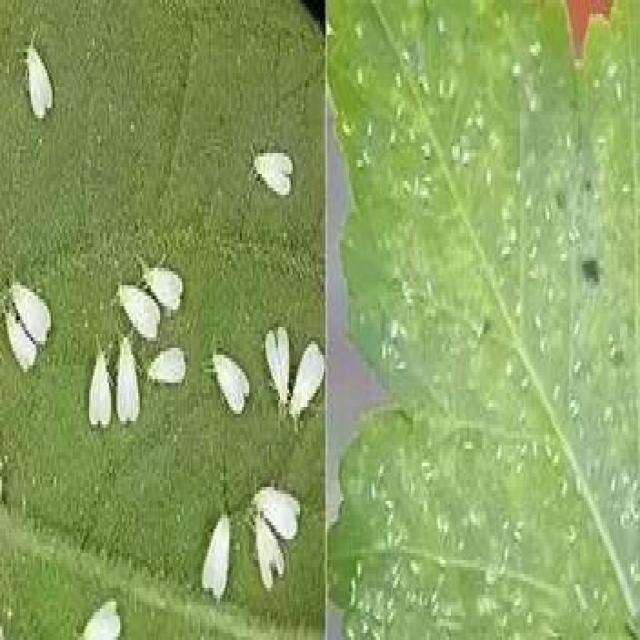BeetArmyWorm-Adult-: (200, 342, 260, 430), (196, 496, 240, 616), (238, 124, 300, 208), (243, 474, 310, 543), (109, 321, 147, 441), (5, 266, 59, 346), (78, 329, 116, 440), (286, 333, 326, 438), (246, 508, 289, 599), (111, 277, 162, 344), (20, 34, 55, 130), (137, 250, 187, 314), (2, 305, 40, 384), (263, 316, 293, 414), (141, 343, 192, 393)
